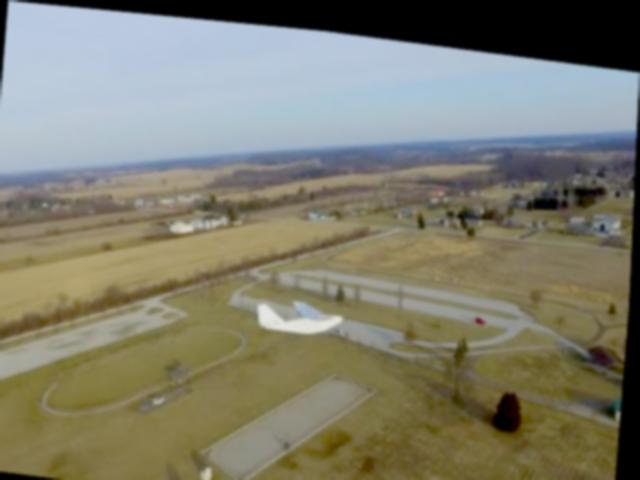uav: (248, 276, 356, 344)
